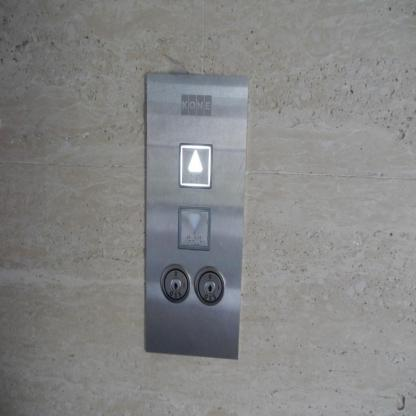down: (175, 204, 211, 254)
keyhole: (193, 264, 227, 304), (160, 264, 190, 303)
up: (177, 140, 213, 190)
